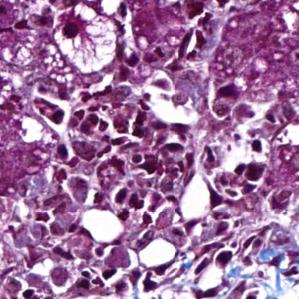ballooning: (52, 3, 119, 74)
